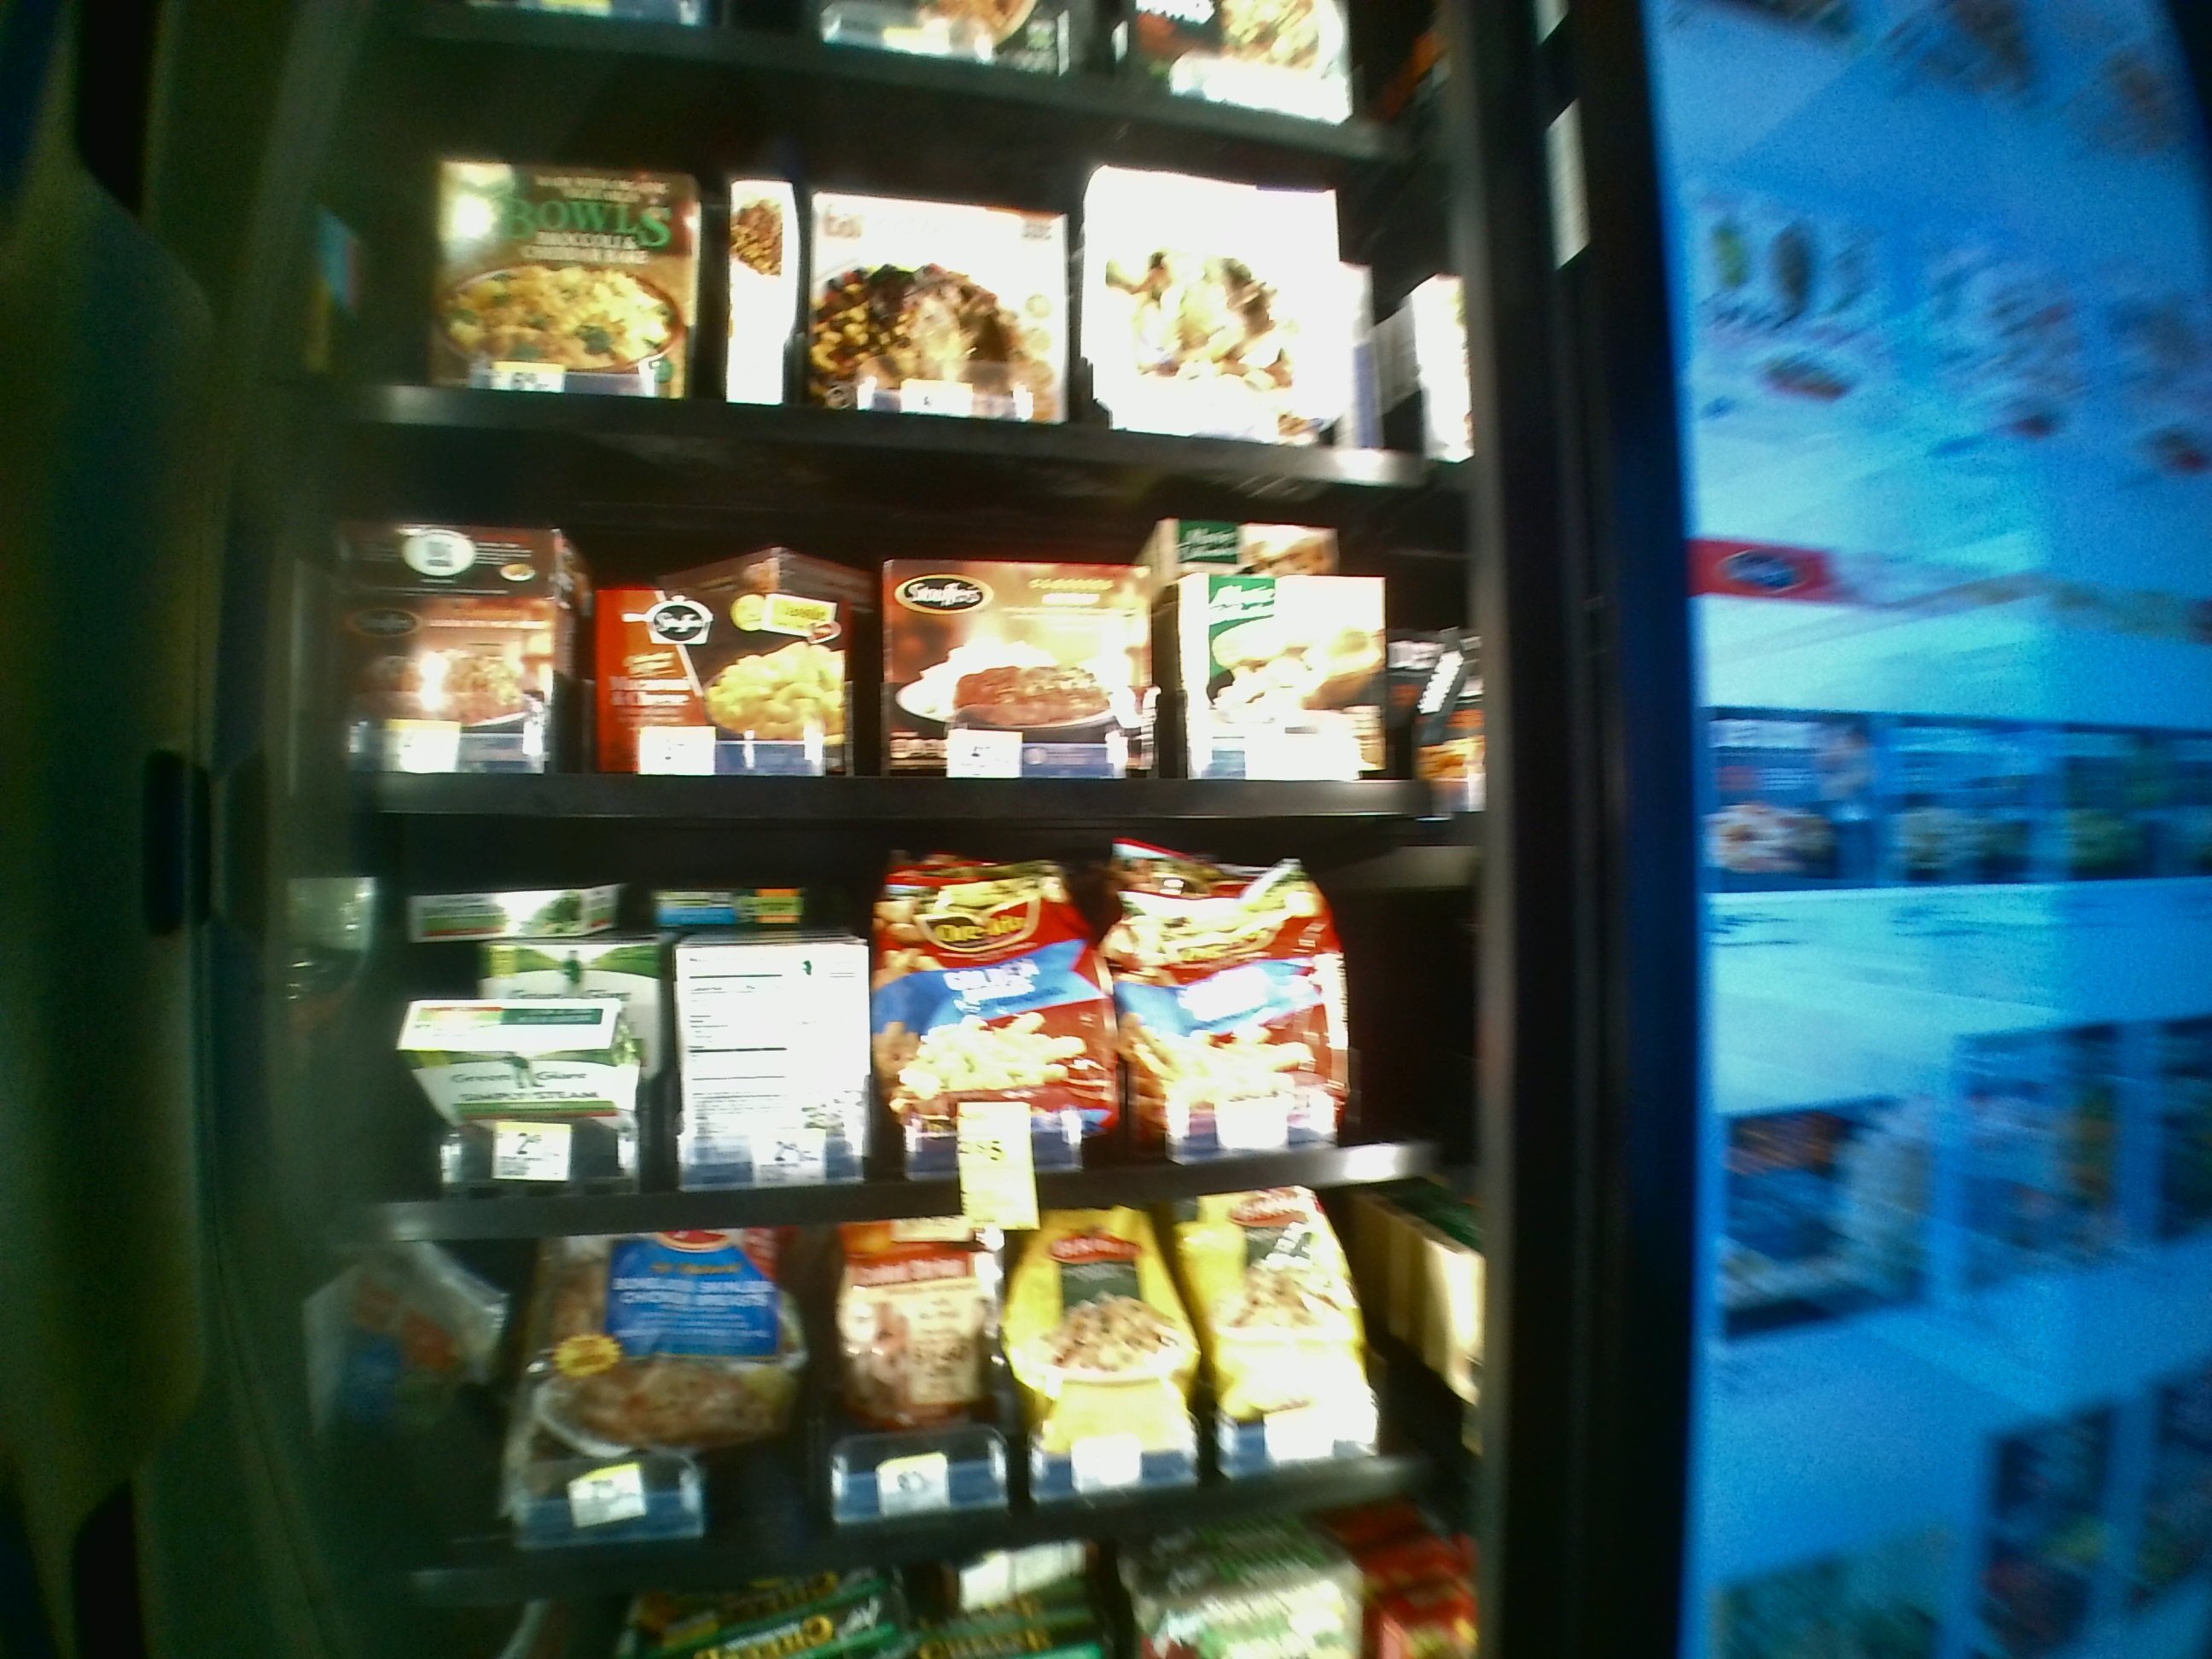shelf: (320, 824, 1474, 1248), (320, 420, 1460, 814)
